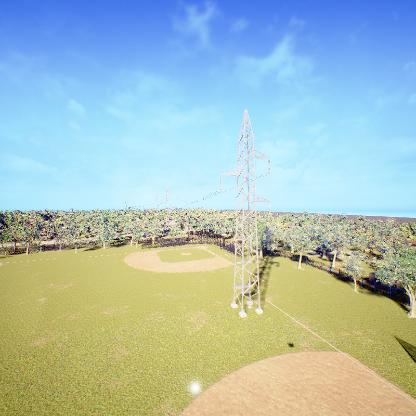tower: (216, 105, 273, 315)
